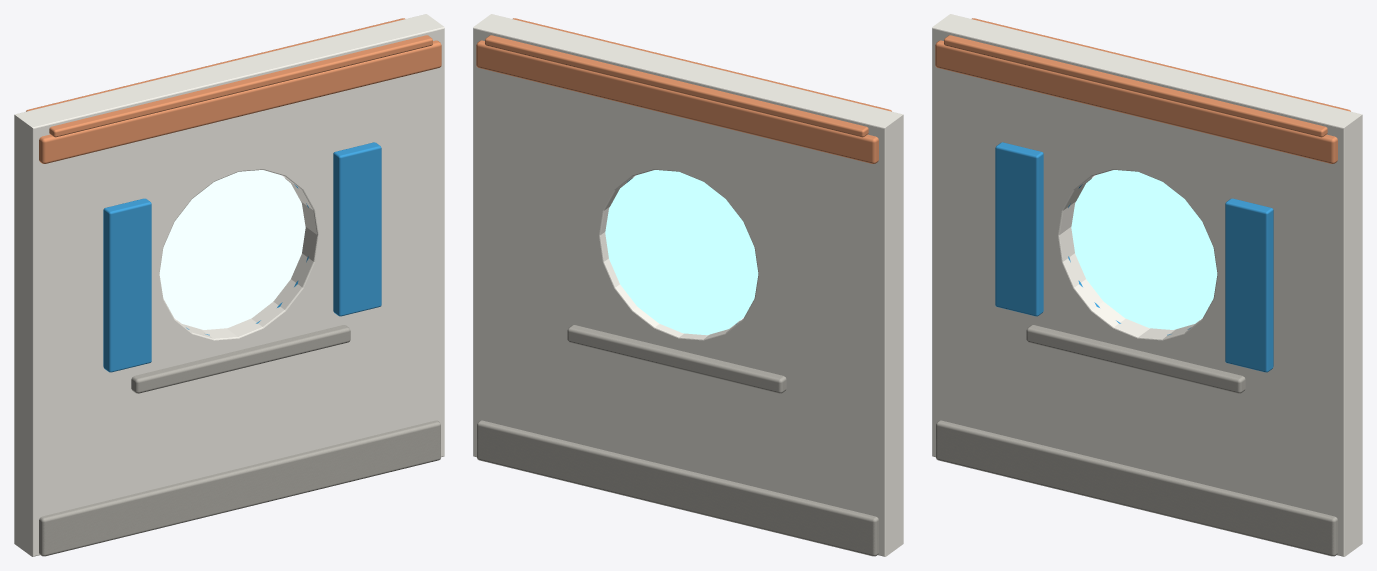
File: hero-shooter-harbour-payload-wall-bay-window-97bfc04d__27692.glb
The picture shows the model from 3 angles, left to right: view 1: azimuth 30°, elevation 25°; view 2: azimuth 150°, elevation 25°; view 3: azimuth 330°, elevation 25°; orthographic projection.
Visible parts, largest first — view 1: wall-bay-window; view 2: wall-bay-window; view 3: wall-bay-window.
Part boxes in pixels (<box>): wall-bay-window: <box>14,14,444,556</box>; wall-bay-window: <box>473,14,903,556</box>; wall-bay-window: <box>932,14,1362,556</box>.
Bounding box in the file's own units: 4.02 × 4 × 0.53.
5 materials, 1 textured.
